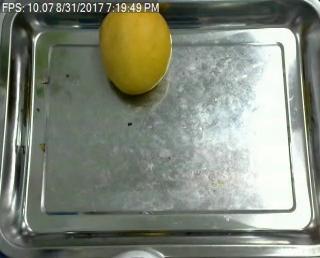Mango: (96, 0, 173, 97)
